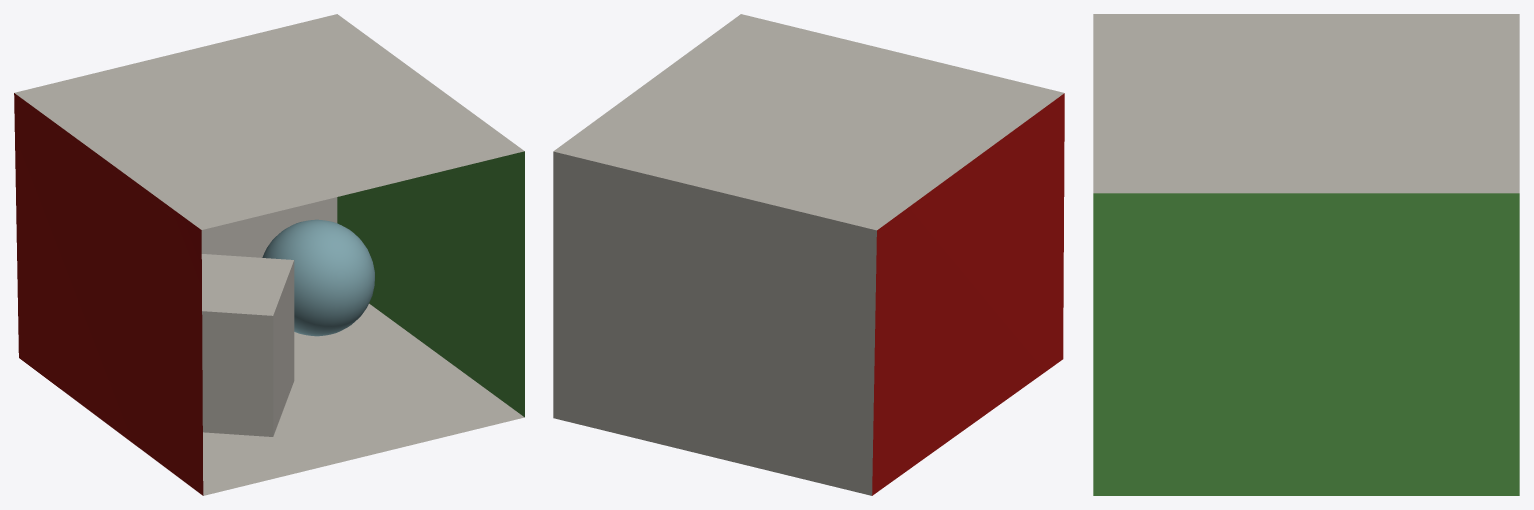
Rendered from CornellBox-Glossy.obj.
The picture shows the model from 3 angles, left to right: view 1: azimuth 30°, elevation 25°; view 2: azimuth 150°, elevation 25°; view 3: azimuth 270°, elevation 25°; orthographic projection. The views are drawn at different scales.
Parts seen in each view (by area): view 1: ceiling, leftWall, rightWall, floor, shortBox, sphere, backWall; view 2: backWall, ceiling, leftWall; view 3: rightWall, ceiling.
Part boxes in pixels (x1=…): ceiling: x1=14, y1=14, x2=524, y2=229; leftWall: x1=14, y1=93, x2=203, y2=495; rightWall: x1=337, y1=151, x2=524, y2=417; floor: x1=203, y1=303, x2=524, y2=495; shortBox: x1=201, y1=254, x2=294, y2=436; sphere: x1=262, y1=219, x2=374, y2=336; backWall: x1=201, y1=197, x2=337, y2=257; backWall: x1=553, y1=151, x2=876, y2=495; ceiling: x1=553, y1=14, x2=1064, y2=230; leftWall: x1=872, y1=93, x2=1064, y2=495; rightWall: x1=1093, y1=193, x2=1519, y2=495; ceiling: x1=1093, y1=14, x2=1519, y2=193.
Bounding box in the file's own units: 2.02 × 1.59 × 2.03.
